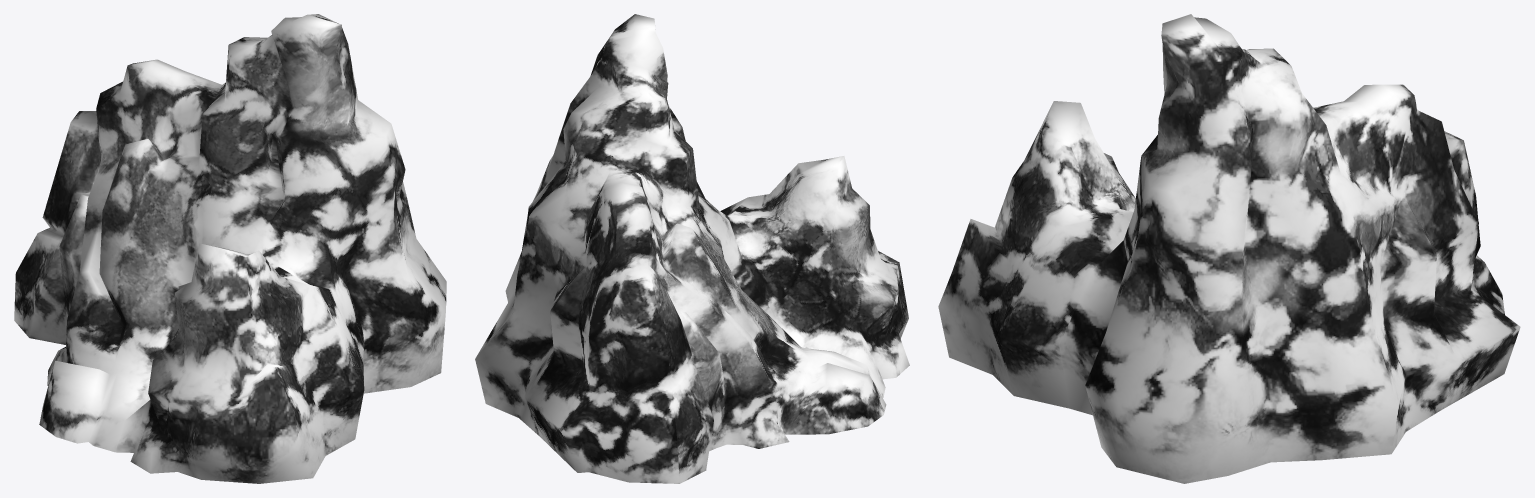
The model's file is Stone01.FBX.
3 renders of one model, left to right at view 1: azimuth 30°, elevation 25°; view 2: azimuth 150°, elevation 25°; view 3: azimuth 270°, elevation 25°, orthographic. The views are drawn at different scales.
Visible parts, largest first — view 1: Stone01; view 2: Stone01; view 3: Stone01.
Part boxes in pixels (box(x1,y1,x2,y2)): Stone01: box(14, 14, 446, 483); Stone01: box(475, 14, 909, 483); Stone01: box(938, 14, 1520, 483).
Size of the model in its own units: 412 by 358 by 482.
